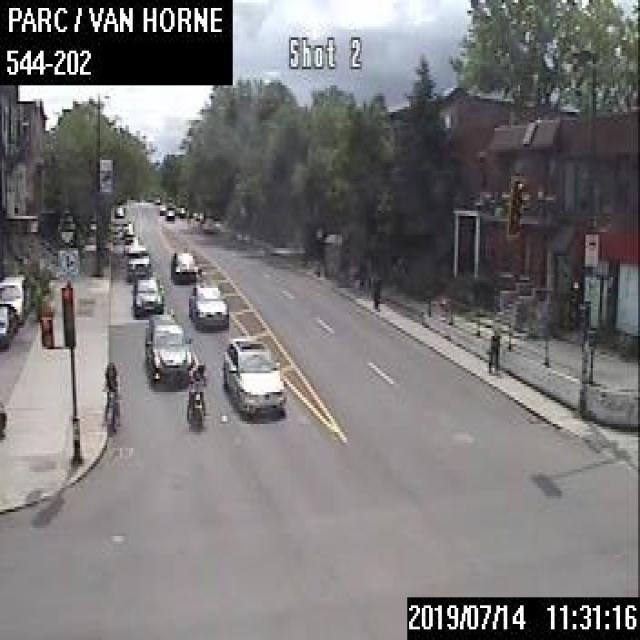cyclist: (98, 354, 120, 426)
pedestrian: (487, 330, 500, 370), (371, 277, 378, 307)
vehicle: (221, 333, 285, 419), (144, 311, 191, 382), (188, 280, 228, 329), (0, 272, 33, 323), (130, 274, 164, 314), (184, 362, 206, 421), (125, 242, 152, 278), (169, 248, 198, 280), (0, 300, 18, 345), (122, 233, 142, 254), (201, 214, 215, 231), (164, 208, 174, 218), (158, 204, 166, 213)
